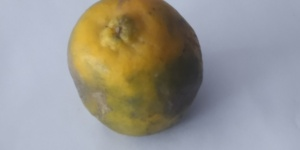BAD: (66, 1, 207, 138)
